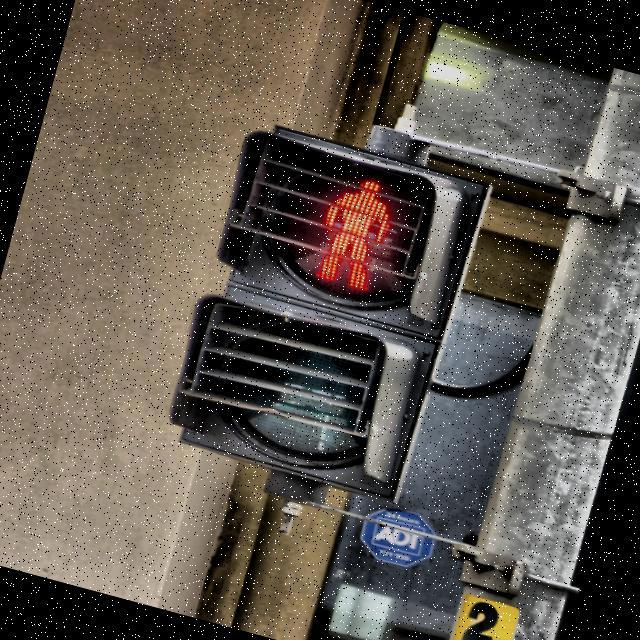red_light: (300, 165, 406, 298)
